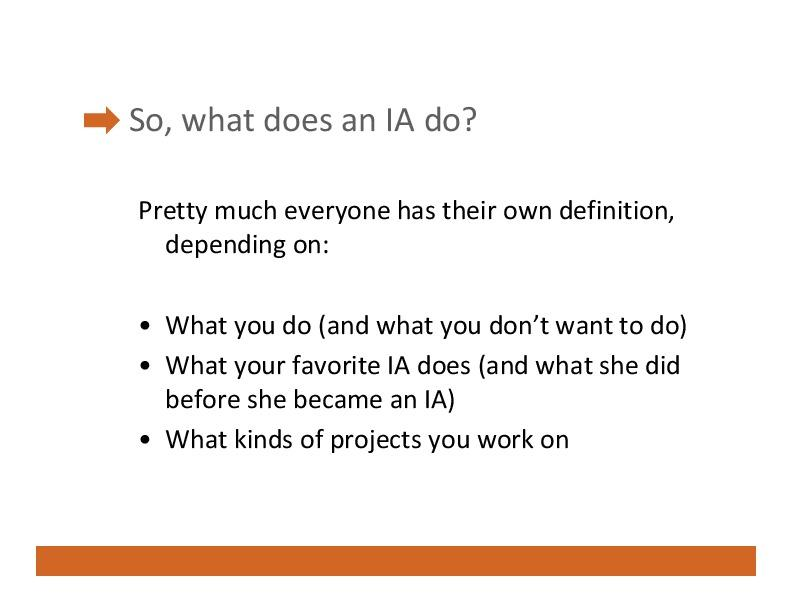paragraph: (125, 184, 713, 468)
title: (127, 98, 491, 145)
